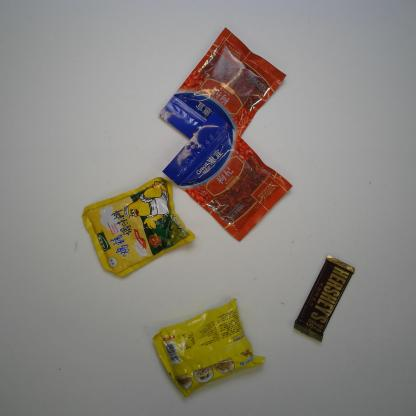Chocolate: (293, 254, 356, 344)
Dried Fruit: (161, 111, 292, 243), (156, 26, 288, 150)
Instant Noodles: (152, 297, 266, 399)
Seasoner: (82, 175, 196, 278)
